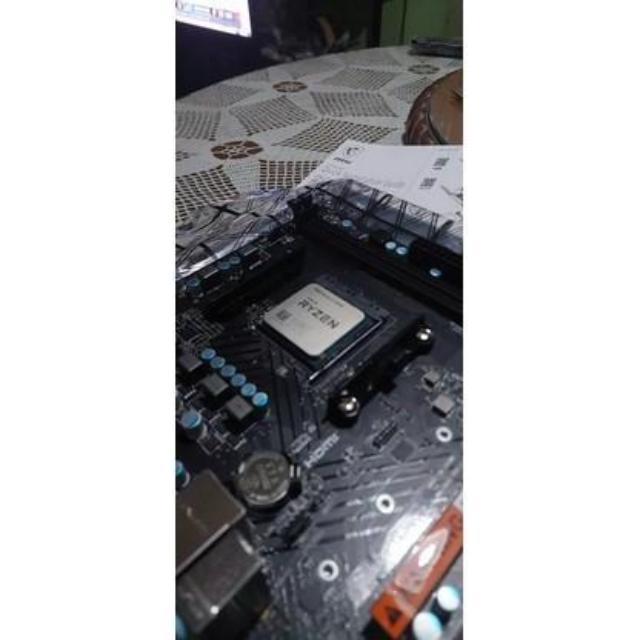CPU: (262, 281, 370, 359)
